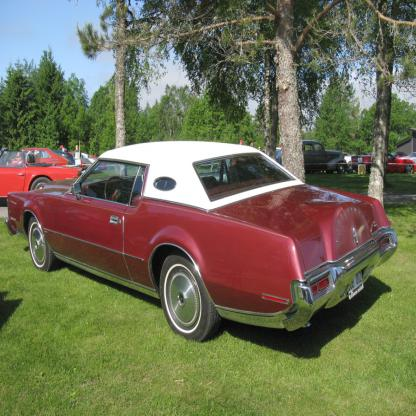Car: (0, 140, 416, 344)
